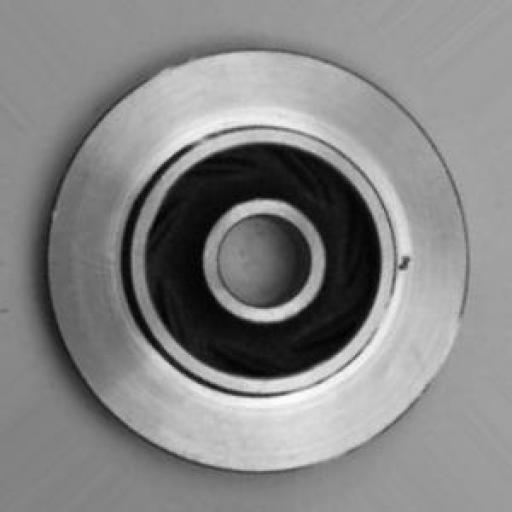defect: (25, 24, 485, 479), (385, 236, 418, 289)
